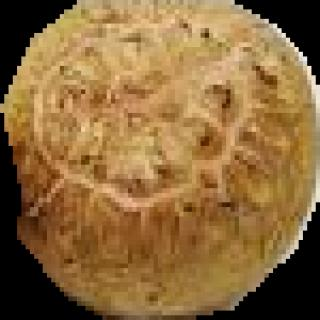mushroom: (0, 0, 320, 320)
